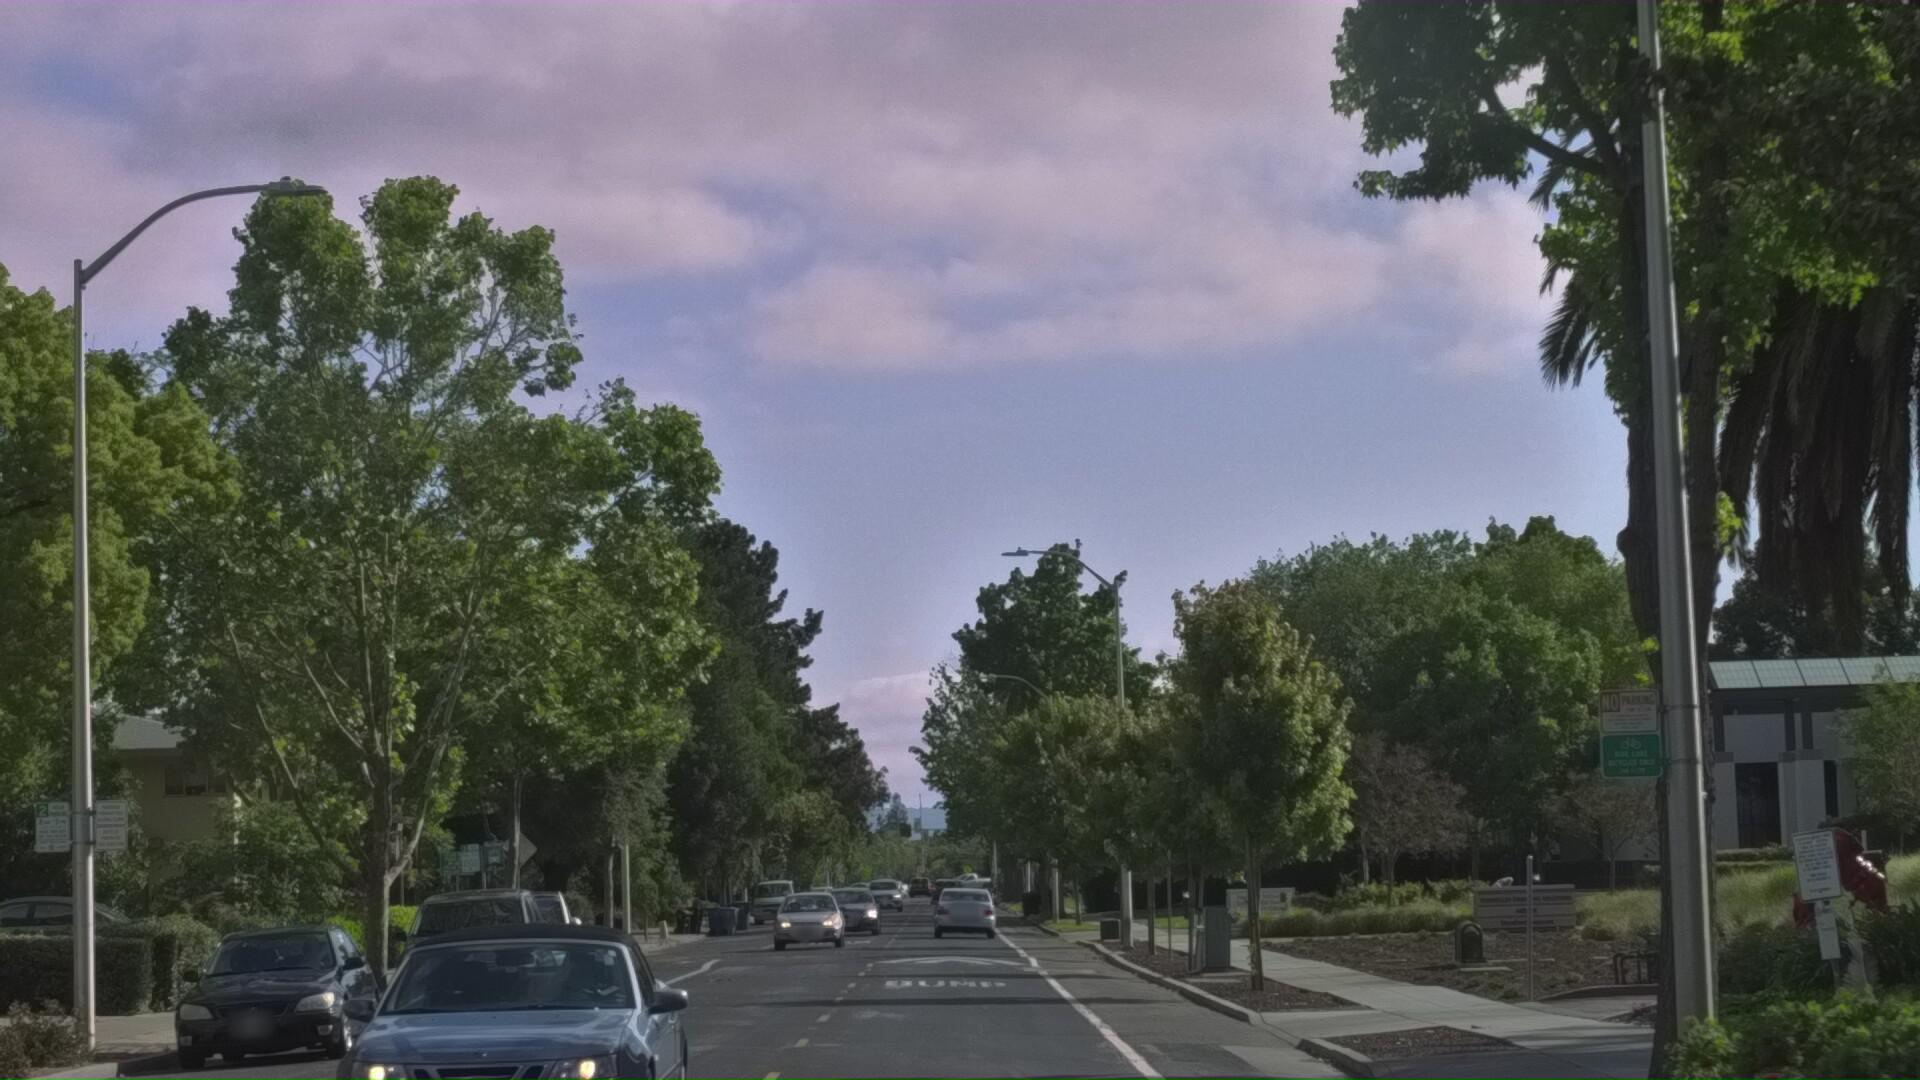car: (278, 969, 683, 1080), (150, 1002, 396, 1080), (396, 975, 568, 1080), (447, 978, 593, 1080), (767, 985, 847, 1051)
